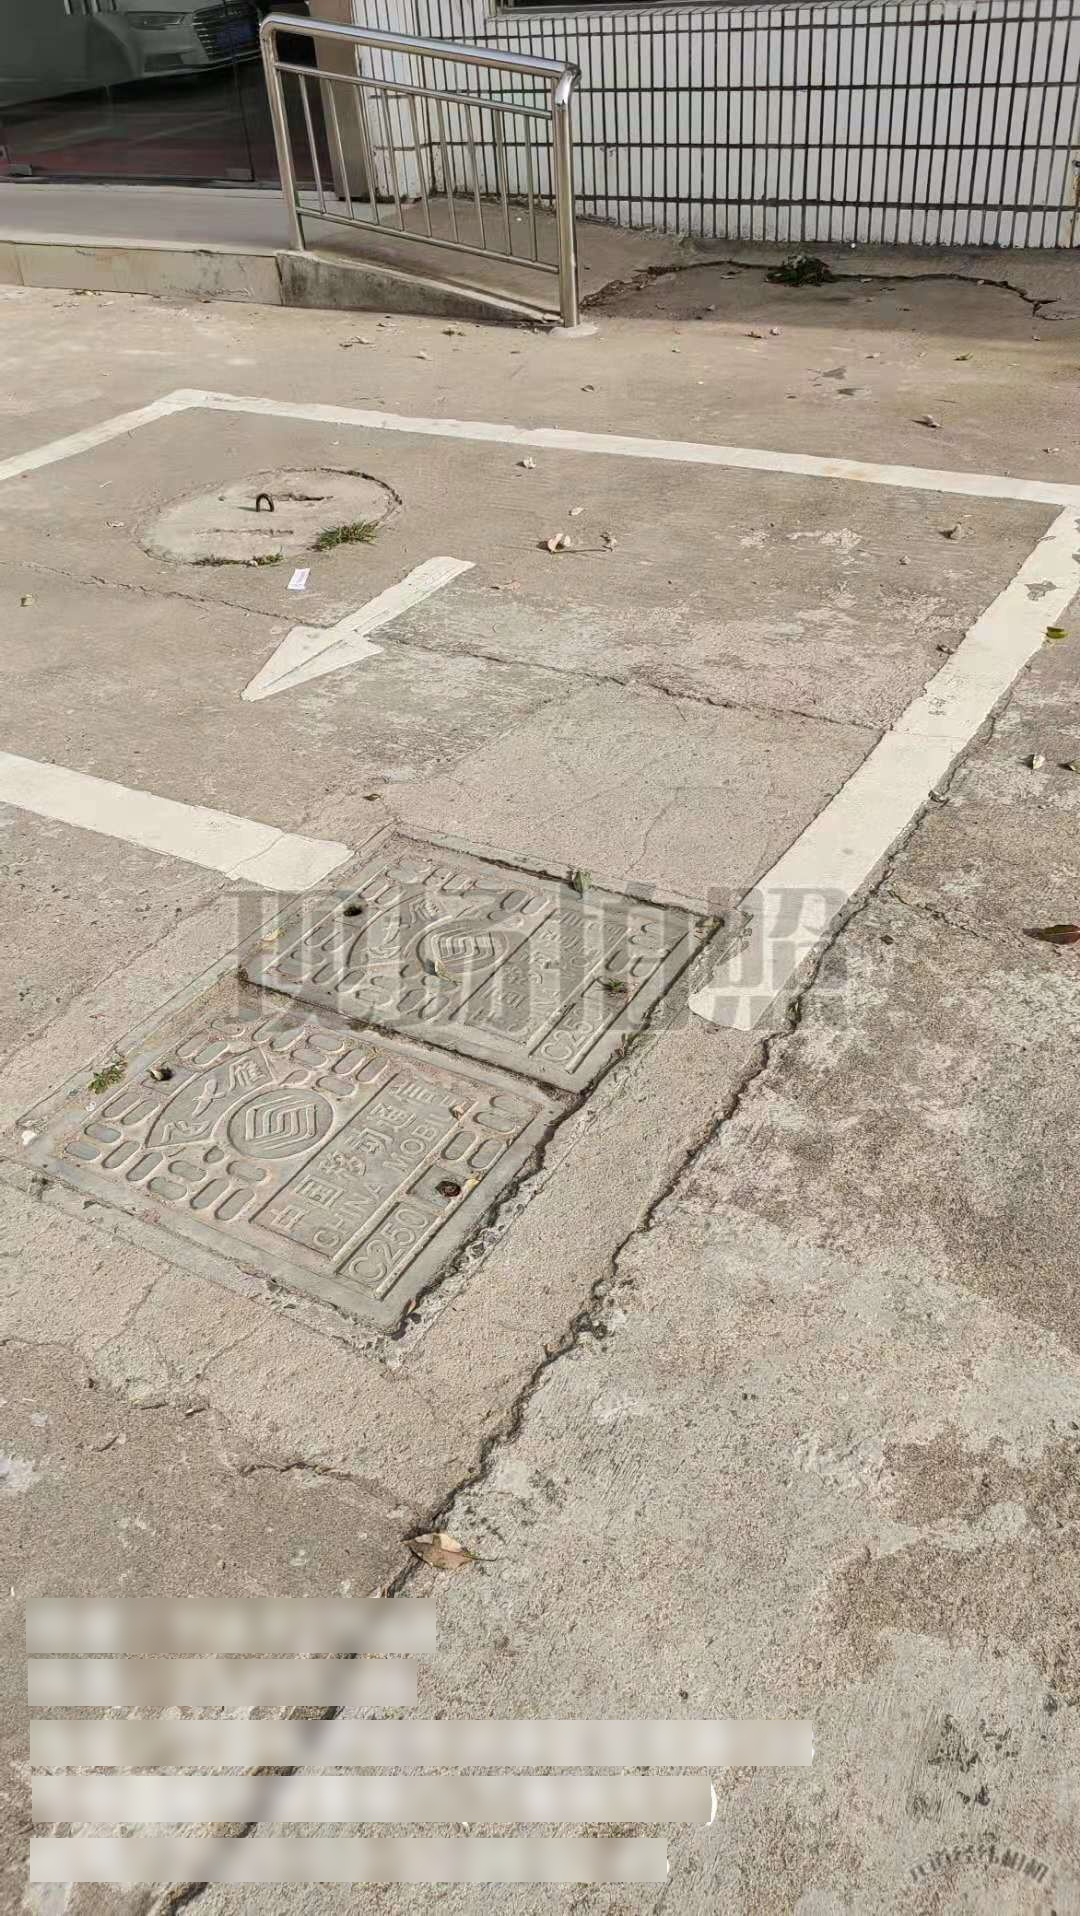good: (1, 816, 735, 1362)
